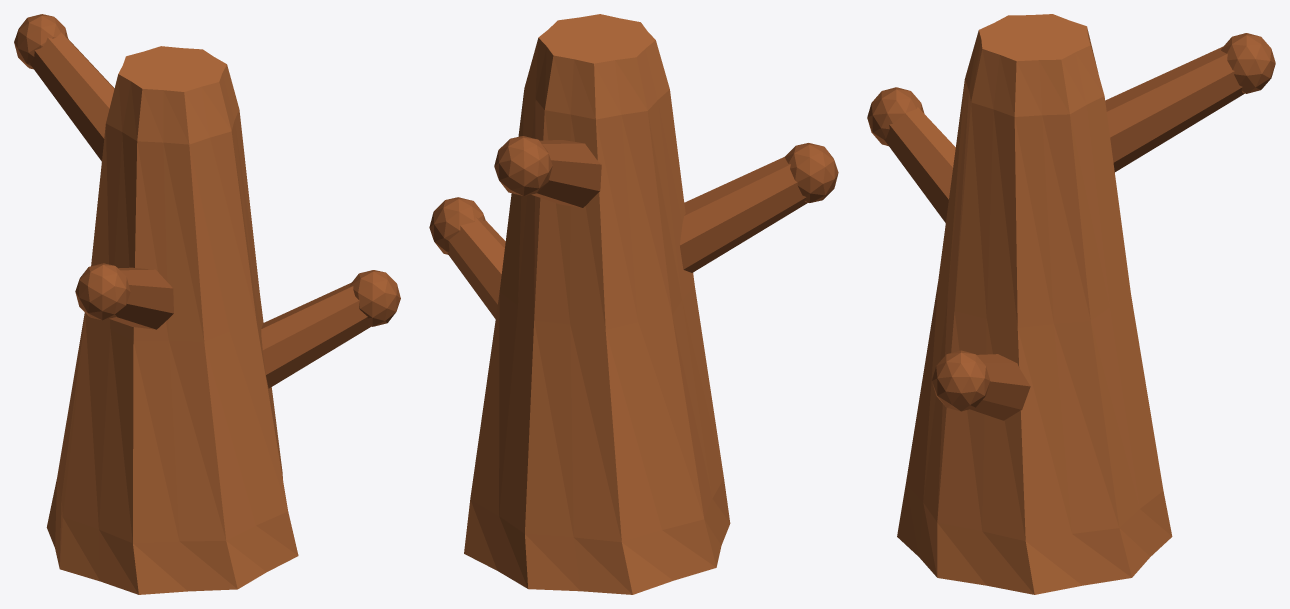
The model's file is PineTrunk.glb.
The picture shows the model from 3 angles, left to right: view 1: azimuth 30°, elevation 25°; view 2: azimuth 150°, elevation 25°; view 3: azimuth 270°, elevation 25°; orthographic projection. The views are drawn at different scales.
Visible parts, largest first — view 1: PineTrunk_PineBark, PineTrunk_PineStubs; view 2: PineTrunk_PineBark, PineTrunk_PineStubs; view 3: PineTrunk_PineBark, PineTrunk_PineStubs.
Boxes of the visible parts, x1,y1,x2,y2 form: PineTrunk_PineBark: (46,46,298,594); PineTrunk_PineStubs: (14,14,400,388); PineTrunk_PineBark: (464,14,730,594); PineTrunk_PineStubs: (429,136,838,318); PineTrunk_PineBark: (897,14,1172,594); PineTrunk_PineStubs: (867,33,1275,420).
Size of the model in its own units: 2.32 by 3 by 2.23.
